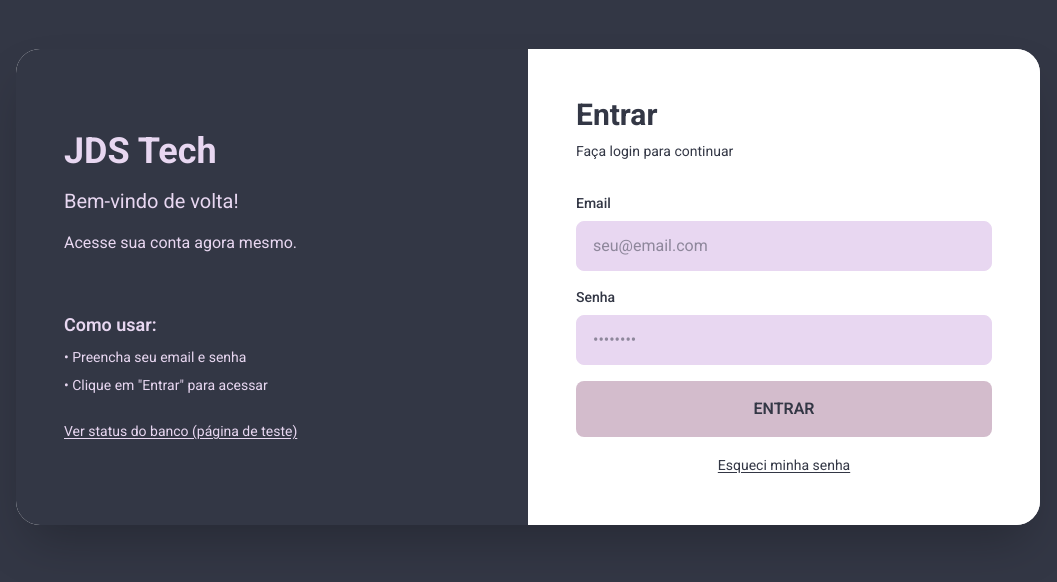
Test: LoginPage › Submissão do Formulário › deve mostrar erro genérico para outros erros
The image size is (1057, 582).
Type "teste@email.com" into the field labelled "Email". click: coordinates (784, 246)
box: [576,221,992,271]
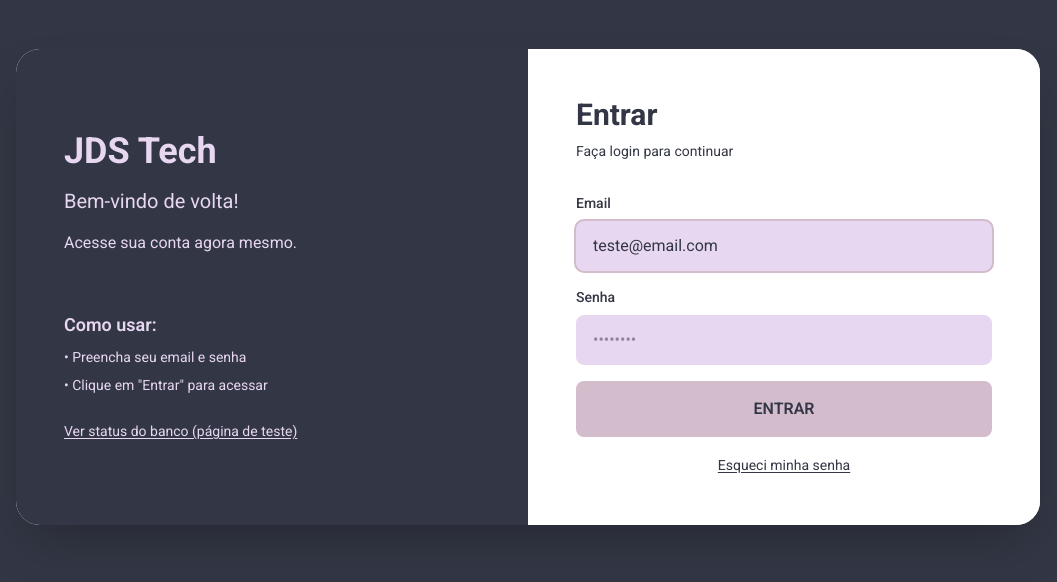
Type "senha123" into the password field labelled "Senha". click: coordinates (784, 340)
box: [576,315,992,365]
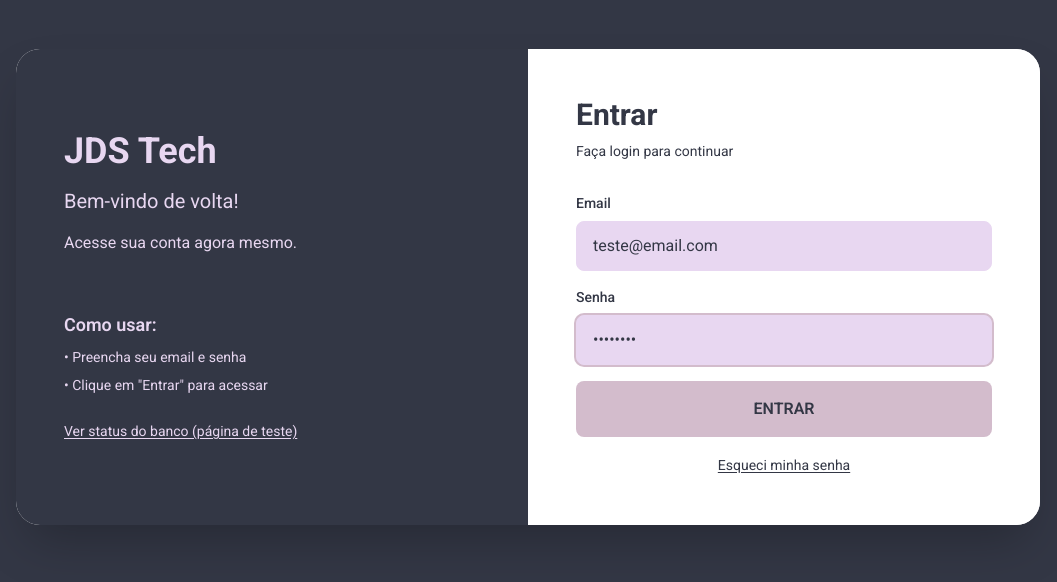
Click the button "ENTRAR". click: coordinates (784, 409)
box: [576,381,992,437]
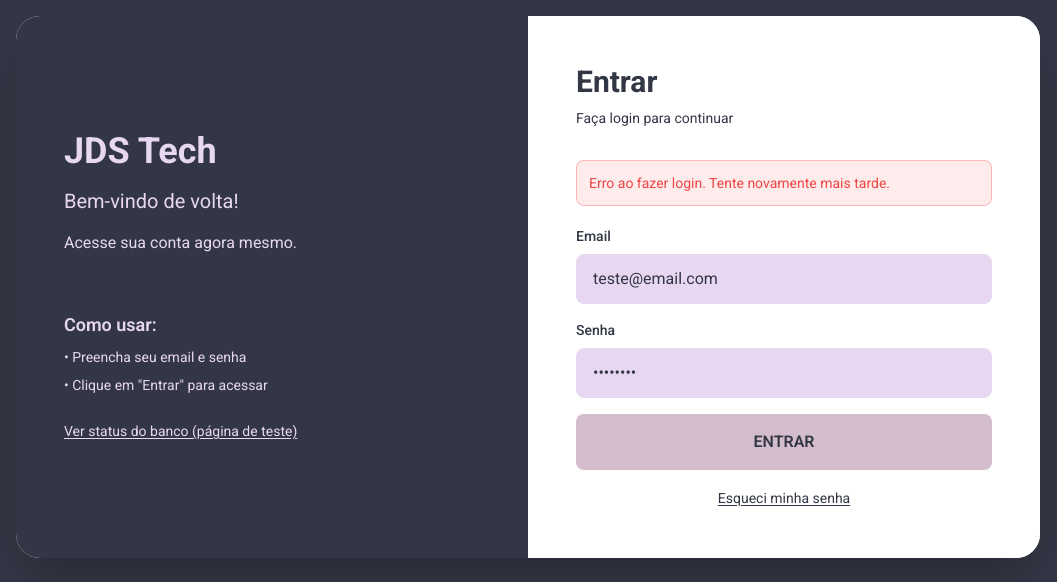
Now the text "Erro ao fazer login. Tente novamente mais tarde." is shown, box [589,175,890,191]
